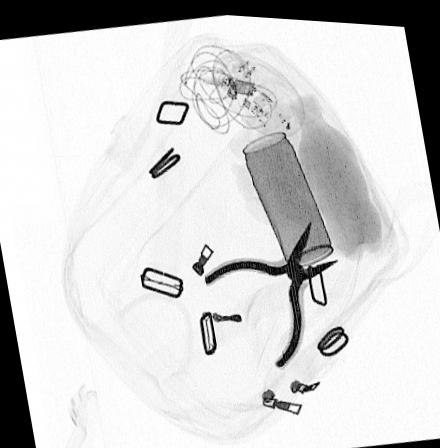Pliers: (201, 214, 340, 365)
